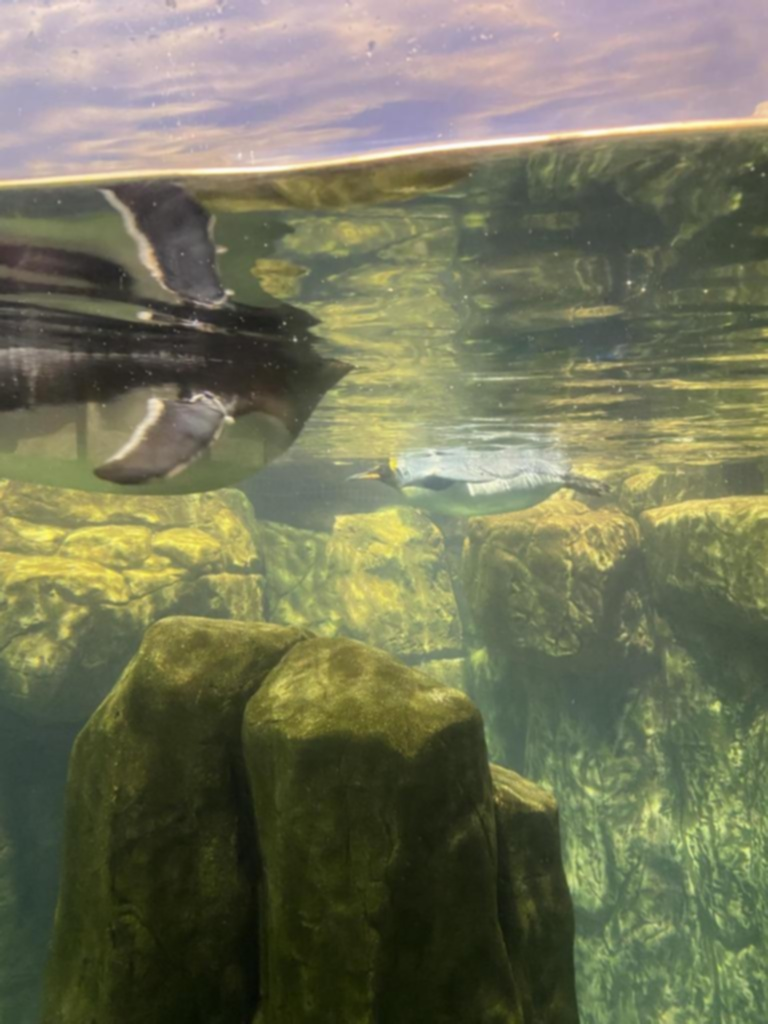penguin: (0, 292, 358, 494), (342, 454, 612, 516)
